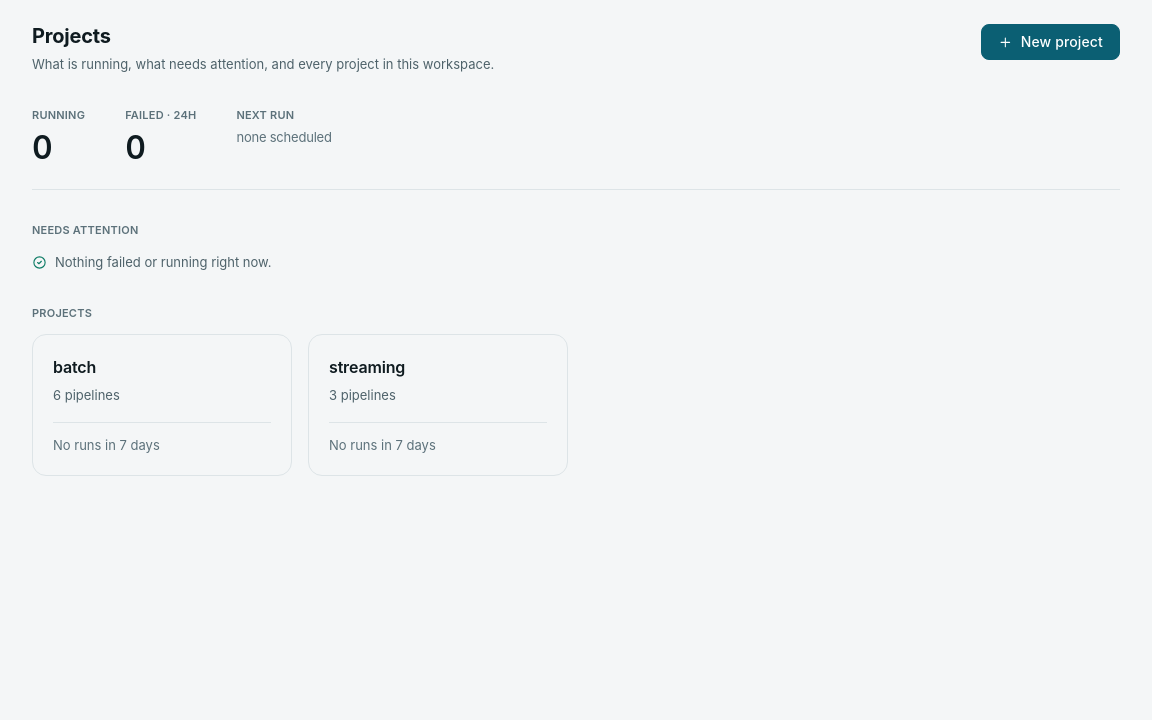
Test: Creating a project › shows the server's refusal inside the form
Click the button "New project": (1050, 42) [981,24,1120,60]
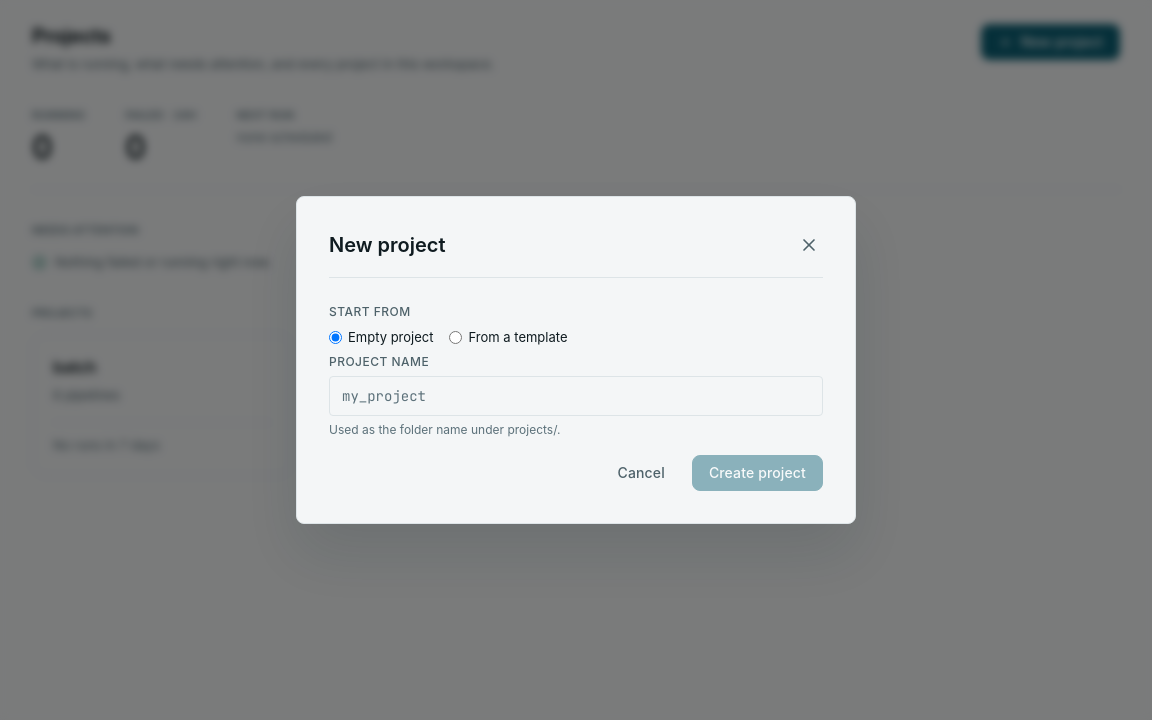
In the field labelled "Project name": (576, 396) [329,376,823,416], type "batch"
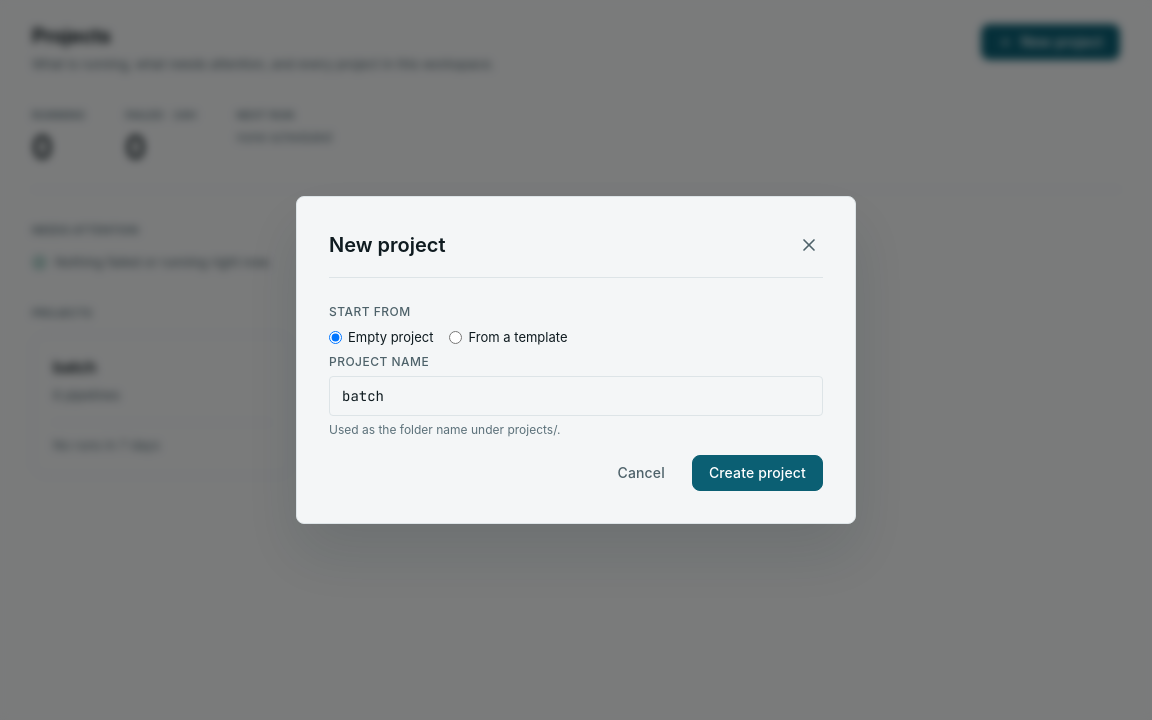
Submit the form "Project name", box [329,302,823,491]
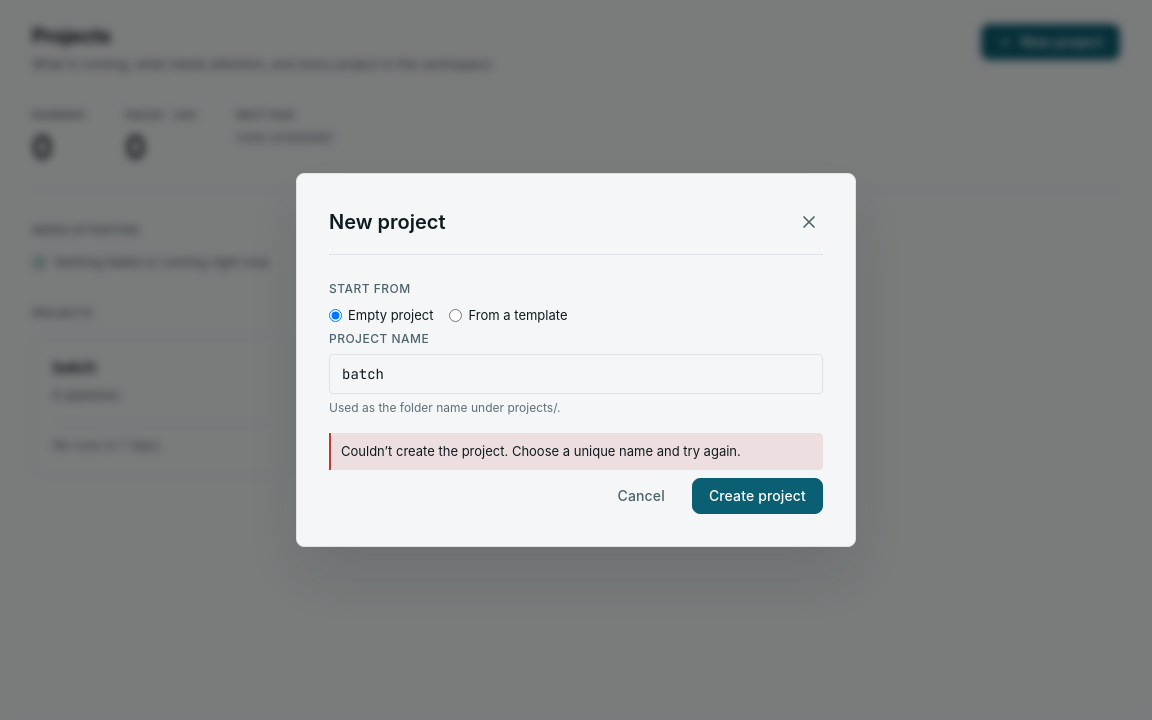
Now the message shows "Choose a unique name", box [341,443,741,459]
